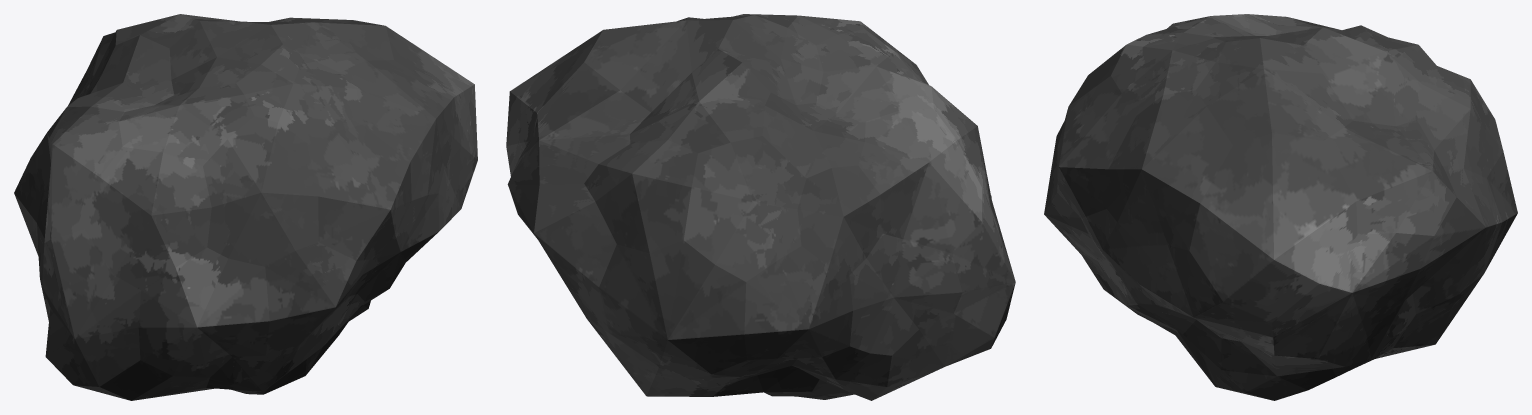
File: PaleRock3.glb
3 views of the same model, side by side, from view 1: azimuth 30°, elevation 25°; view 2: azimuth 150°, elevation 25°; view 3: azimuth 270°, elevation 25° (orthographic). The views are drawn at different scales.
Parts seen in each view (by area): view 1: PaleRock3; view 2: PaleRock3; view 3: PaleRock3.
Part boxes in pixels (x1=…): PaleRock3: x1=14, y1=14, x2=477, y2=400; PaleRock3: x1=506, y1=14, x2=1015, y2=400; PaleRock3: x1=1044, y1=14, x2=1517, y2=400.
Size of the model in its own units: 5.32 by 4.01 by 4.77.
Materials: 1 (1 with a texture image).
